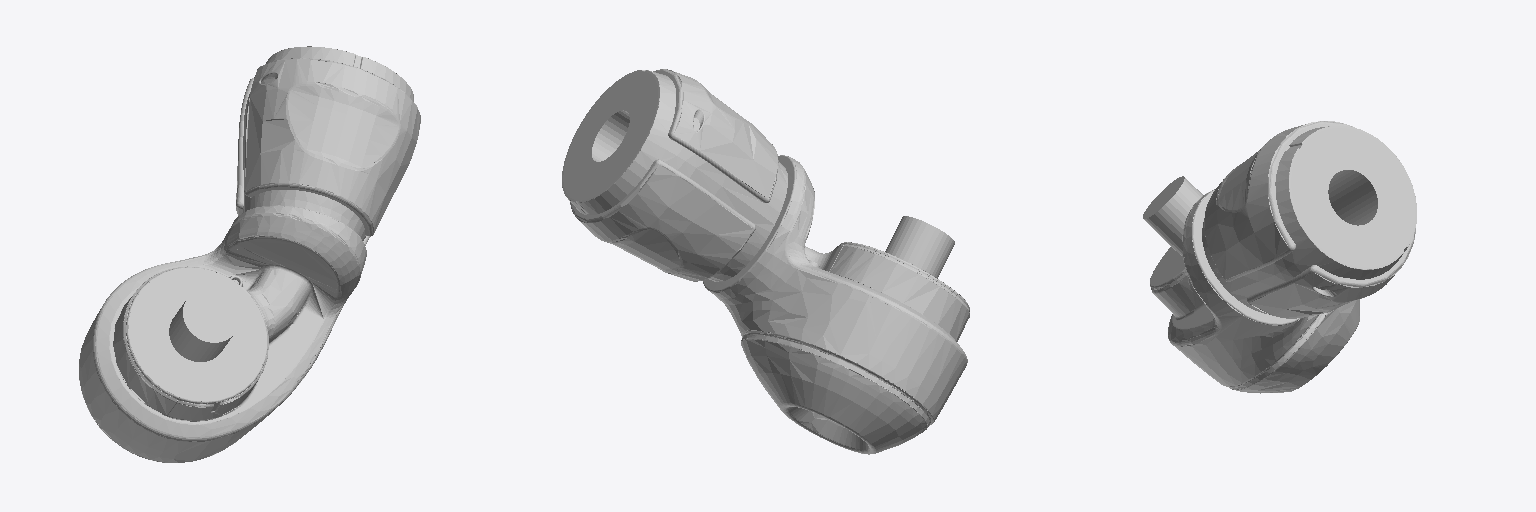
Rendered from IRB14000_rev00_Link4_R.obj.
3 renders of one model, left to right at view 1: azimuth 30°, elevation 25°; view 2: azimuth 150°, elevation 25°; view 3: azimuth 270°, elevation 25°, orthographic.
Visible parts, largest first — view 1: Link4_R3.0, Link4_R3.0-1, Link4_R3.0-2; view 2: Link4_R3.0, Link4_R3.0-1, Link4_R3.0-2; view 3: Link4_R3.0, Link4_R3.0-2, Link4_R3.0-1.
Boxes of the visible parts, x1,y1,x2,y2 form: Link4_R3.0: [79, 58, 420, 462]; Link4_R3.0-1: [113, 46, 413, 421]; Link4_R3.0-2: [169, 288, 239, 361]; Link4_R3.0: [570, 69, 967, 454]; Link4_R3.0-1: [562, 70, 969, 427]; Link4_R3.0-2: [563, 72, 954, 278]; Link4_R3.0: [1168, 121, 1415, 393]; Link4_R3.0-2: [1143, 128, 1414, 266]; Link4_R3.0-1: [1150, 126, 1416, 320].
Size of the model in its own units: 0.2049 by 0.1921 by 0.1396.